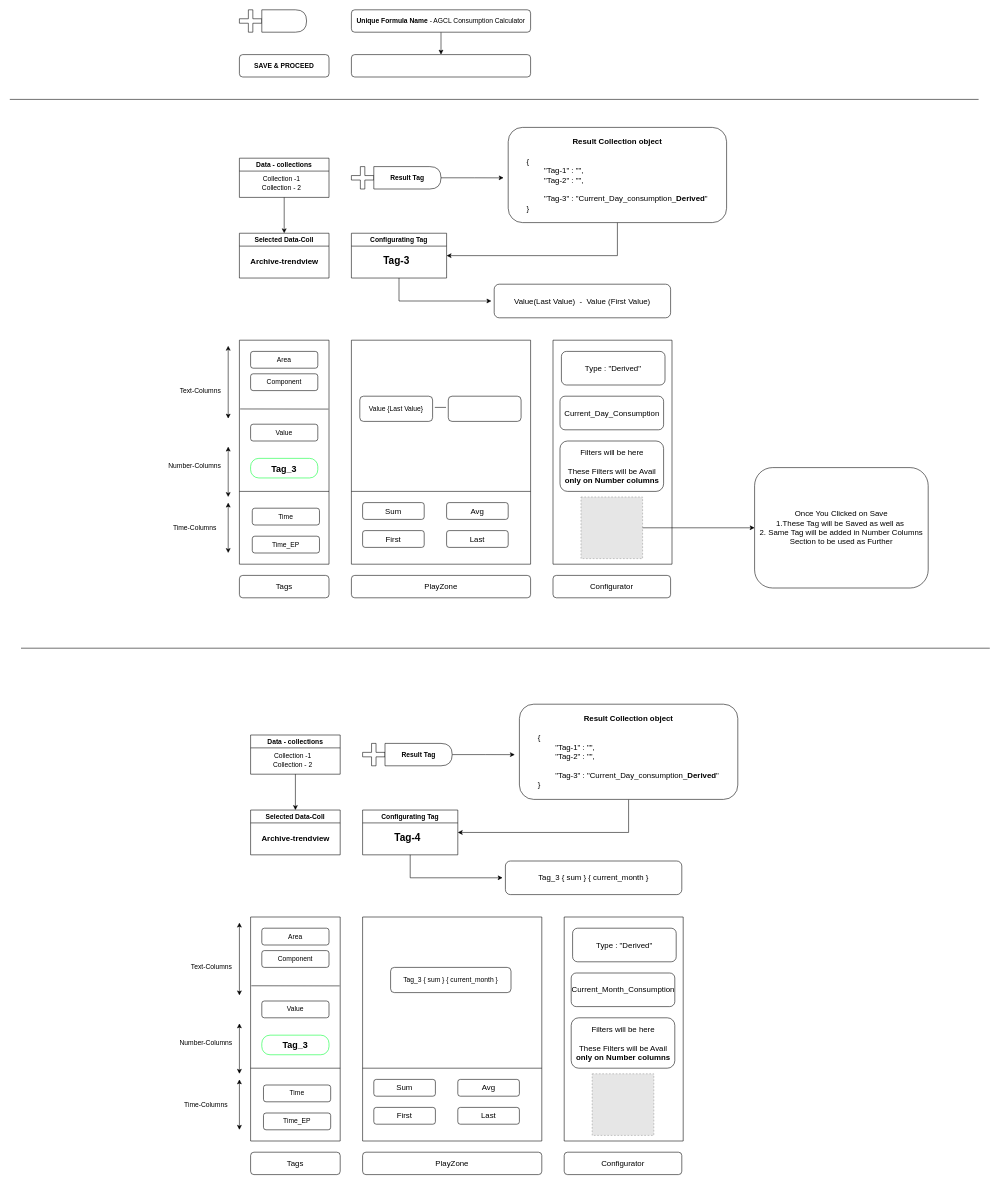
Image size: 1000x1184. Some labels were removed from this diagram. Grey dashed boxes stand in for pictures. The shapes that lost their labels are listed below. From the top down, each one's box as (x1, y1, x2, y2) in pixels, then its label:
(261, 9, 307, 32): ADD
(351, 54, 531, 77): Unique Result Collection - Archive-tea_garden
(448, 396, 521, 421): Value {First Value}
